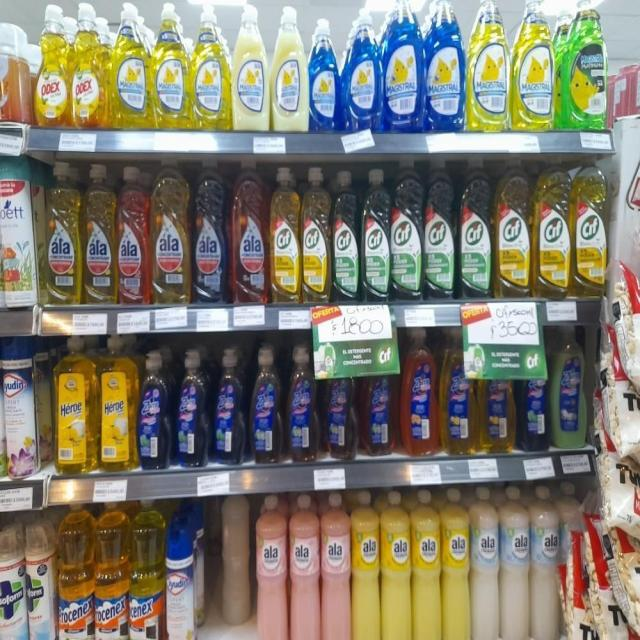ala_conc_amarillo: (151, 158, 190, 305), (44, 160, 80, 306), (82, 163, 116, 305)
ala_conc_azul: (192, 157, 228, 305)
ala_conc_rojo: (231, 157, 268, 305), (117, 164, 149, 306)
ala_crem_amarillo: (381, 489, 411, 640), (412, 488, 441, 640), (442, 487, 470, 640), (352, 489, 380, 640)
ala_crem_blanco: (530, 484, 560, 640), (500, 483, 529, 640), (471, 484, 499, 640)
ala_crem_rosado: (255, 493, 288, 640), (289, 492, 320, 640), (320, 490, 350, 640)
cif_conc_bot_amarilla: (534, 160, 571, 300), (495, 158, 532, 298), (572, 158, 608, 298), (270, 165, 300, 305), (302, 166, 331, 304)
cif_conc_botella_verde: (458, 157, 493, 300), (424, 158, 456, 302), (391, 160, 422, 304), (361, 167, 390, 304), (332, 169, 359, 304)
magistral_con_amarillo: (512, 0, 555, 131), (468, 0, 510, 132), (111, 1, 150, 129), (152, 1, 190, 130), (192, 1, 230, 130)
magistral_con_azul: (424, 0, 465, 133), (383, 0, 422, 134), (342, 4, 380, 132), (308, 16, 340, 133)
magistral_con_crema: (232, 2, 268, 132), (272, 5, 306, 132)
odex: (71, 2, 108, 129), (34, 3, 70, 128)
zorro: (400, 326, 437, 458), (550, 324, 588, 451), (439, 327, 476, 456), (174, 348, 209, 469), (137, 349, 171, 471), (249, 346, 283, 465), (212, 347, 246, 466), (286, 344, 318, 464)
